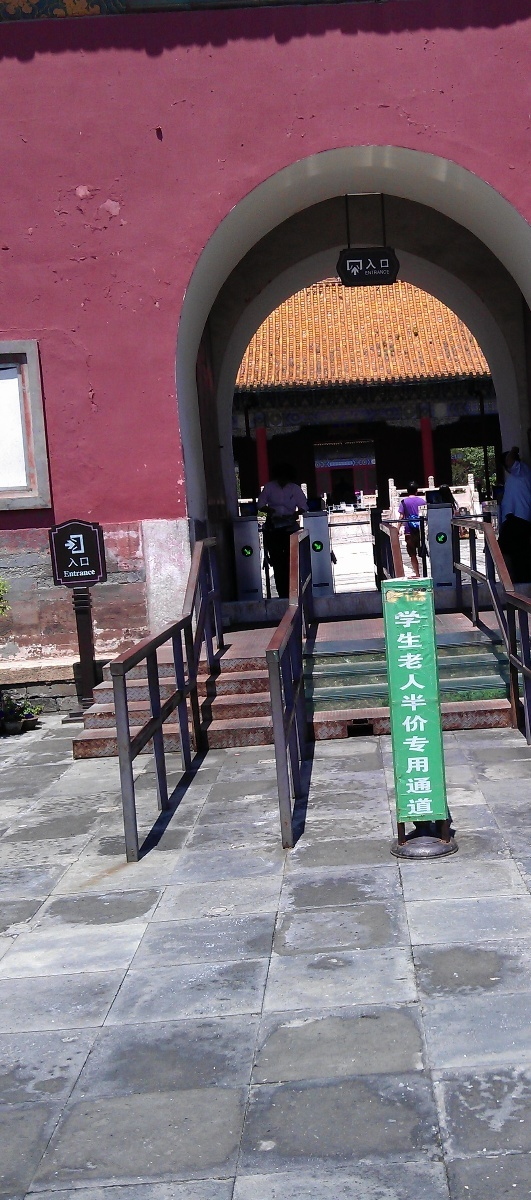text: (401, 610, 416, 817), (417, 610, 432, 817), (393, 610, 400, 817), (433, 610, 435, 817), (369, 259, 384, 270), (67, 556, 80, 568), (65, 568, 80, 578), (81, 568, 96, 578), (81, 556, 90, 568), (369, 270, 384, 276), (385, 259, 390, 270), (365, 259, 368, 270), (385, 270, 390, 276), (365, 270, 368, 276), (63, 568, 64, 578)
